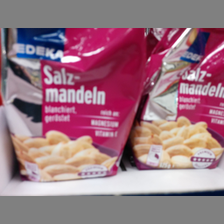nuts: (1, 28, 148, 182), (133, 28, 224, 170)
